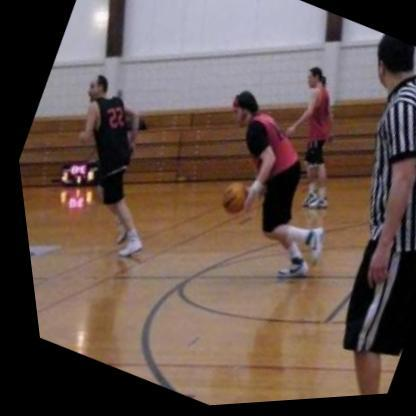basketball: (208, 177, 254, 225)
